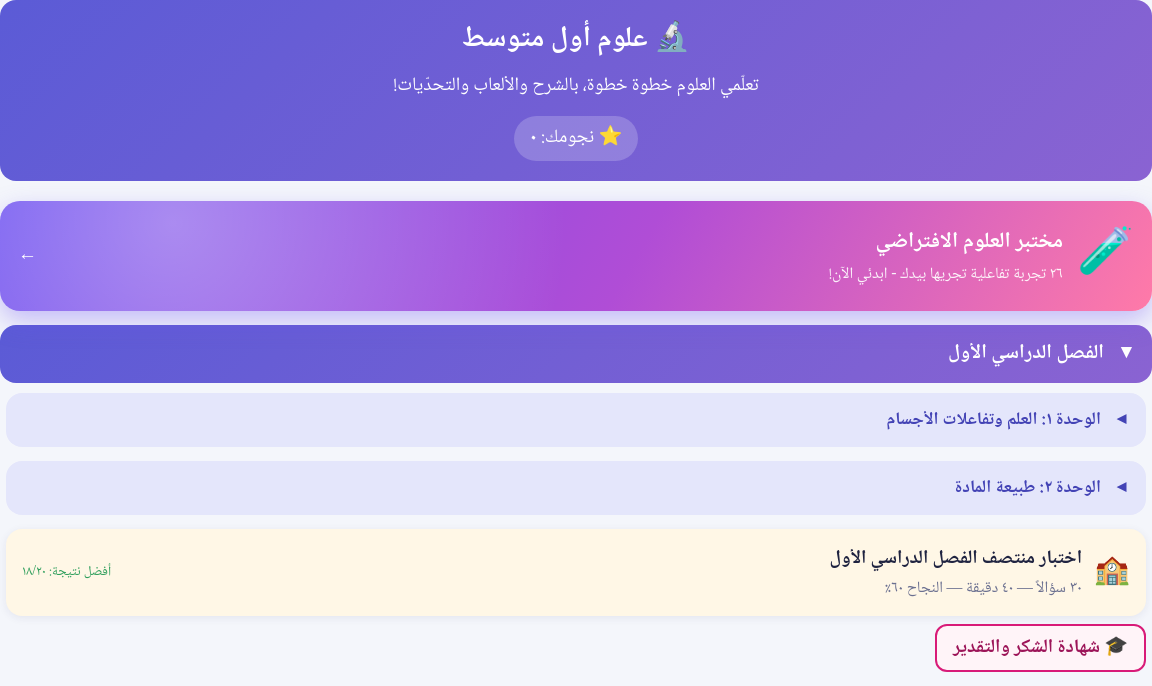
Test case: الرئيسية: الشهادة والقفل › بعد النجاح يظهر زر الشهادة ويفتح نموذج الاسم
Click the button "🎓 شهادة الشكر والتقدير" at (1040, 648), box [935,624,1146,672]
(page scrolled)
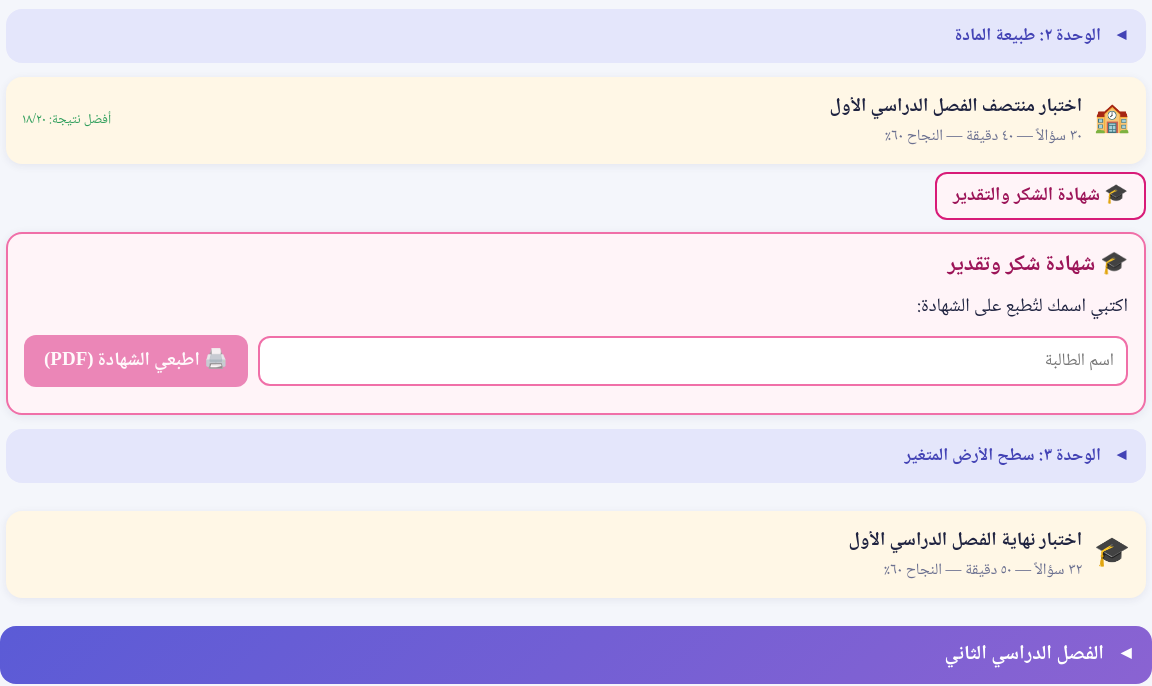
Now the field with placeholder "اسم الطالبة" is shown, box [258,336,1128,386]
